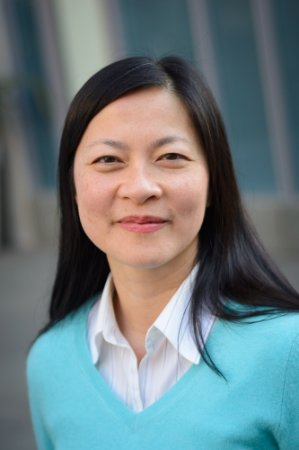bare: (73, 178, 209, 268)
